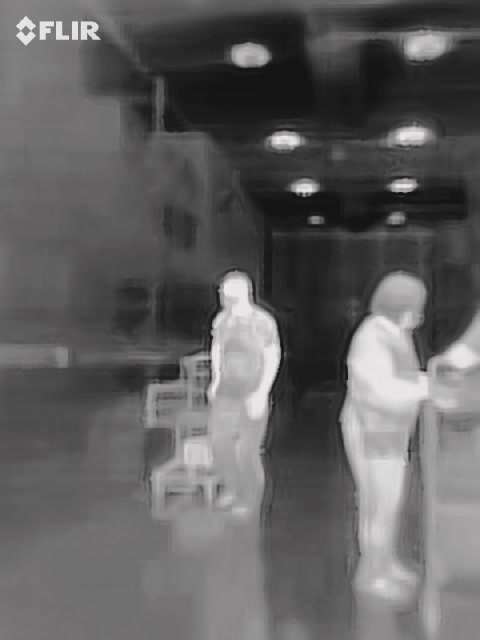head: (373, 271, 427, 331), (218, 271, 250, 313)
